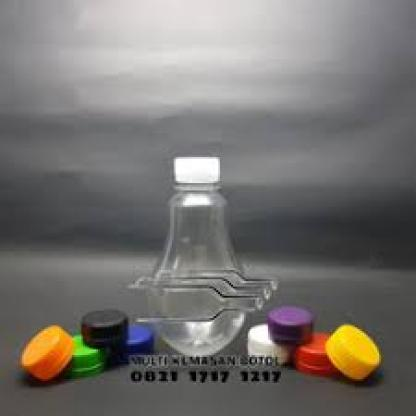Glass Bottle: (130, 152, 260, 376)
